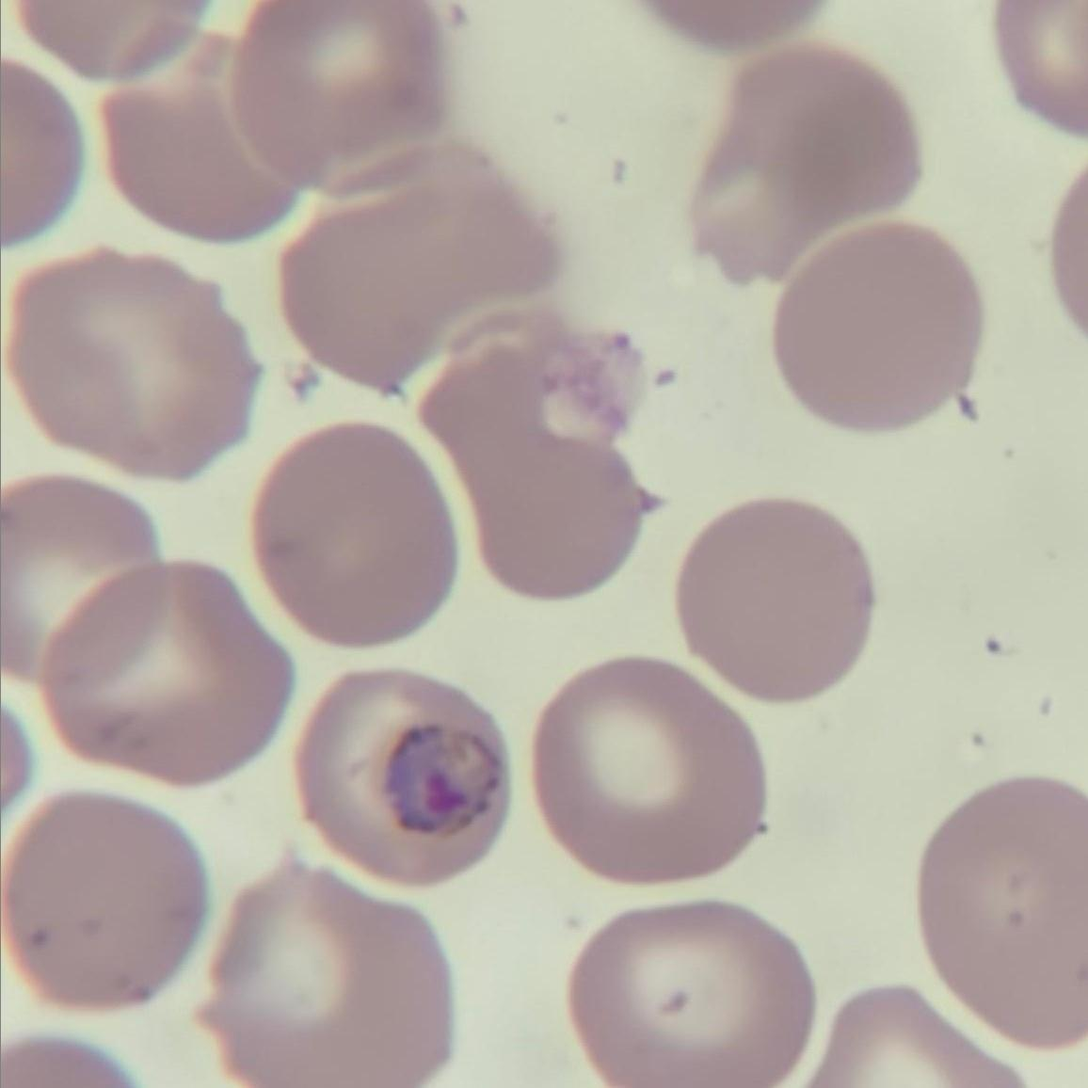Infected: (296, 672, 505, 889)
Uninfected: (279, 160, 550, 391), (207, 853, 457, 1088), (685, 40, 930, 278), (424, 349, 646, 601), (43, 567, 291, 787), (8, 260, 253, 482), (531, 663, 759, 880), (100, 32, 312, 249), (0, 785, 205, 1008), (925, 781, 1088, 1052), (258, 424, 454, 644), (574, 904, 808, 1088), (776, 232, 984, 430), (220, 6, 449, 180), (676, 499, 869, 704), (0, 478, 165, 695)
